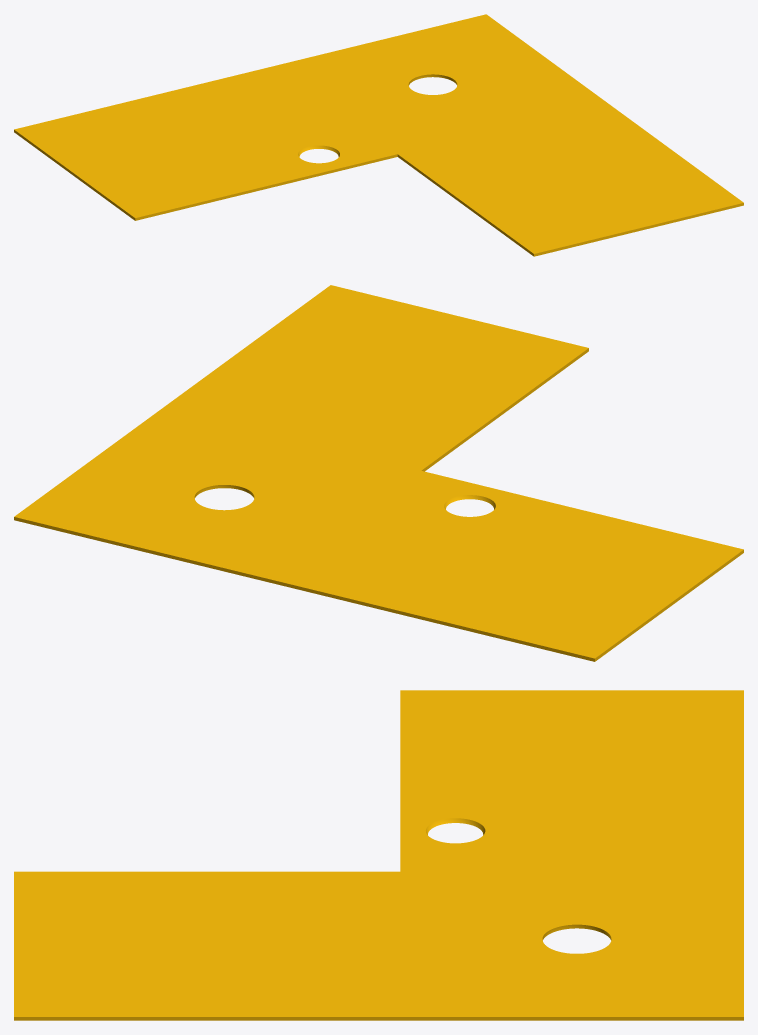
The picture shows the model from 3 angles, top to bottom: view 1: azimuth 30°, elevation 25°; view 2: azimuth 150°, elevation 25°; view 3: azimuth 270°, elevation 25°; orthographic projection. The views are drawn at different scales.
Visible parts, largest first — view 1: LEVEL; view 2: LEVEL; view 3: LEVEL.
Part boxes in pixels (box(x1,y1,x2,y2)): LEVEL: box(14, 14, 743, 256); LEVEL: box(14, 285, 743, 661); LEVEL: box(14, 690, 743, 1020).
Bounding box in the file's own units: 90 × 0.5 × 85.
